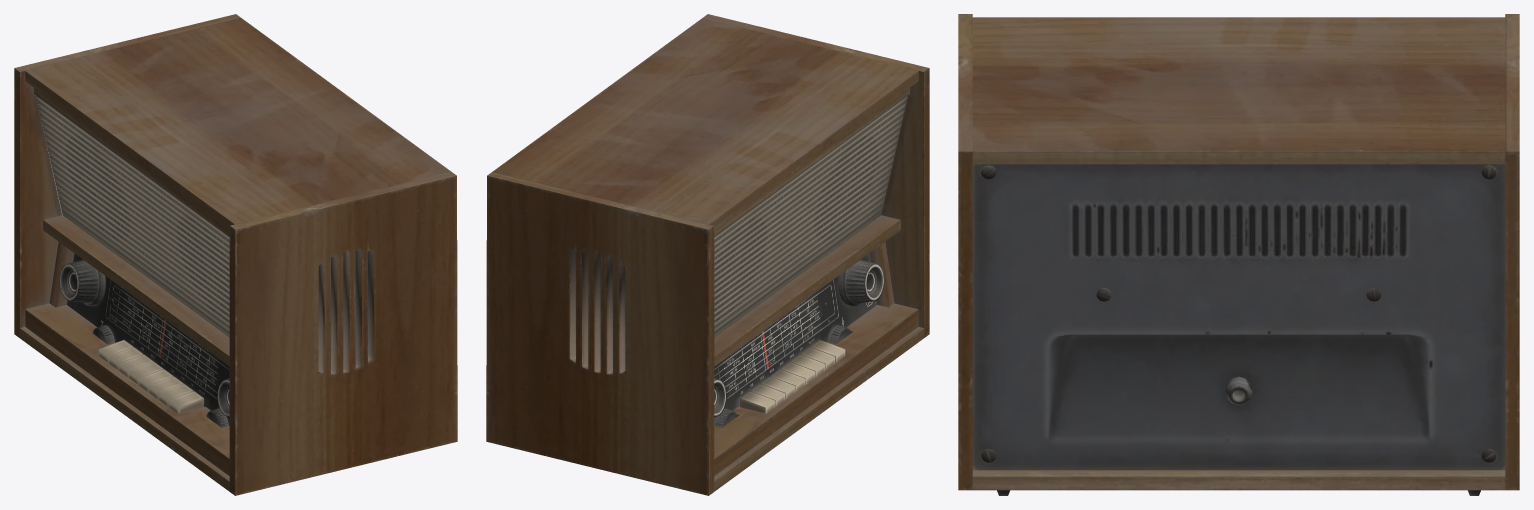
Rendered from radio.glb.
The picture shows the model from 3 angles, left to right: view 1: azimuth 30°, elevation 25°; view 2: azimuth 150°, elevation 25°; view 3: azimuth 270°, elevation 25°; orthographic projection. The views are drawn at different scales.
Parts seen in each view (by area): view 1: models\props\radioset_1.vmdl_c.radioset_1; view 2: models\props\radioset_1.vmdl_c.radioset_1; view 3: models\props\radioset_1.vmdl_c.radioset_1.
Boxes of the visible parts, box(x1,y1,x2,y2) form: models\props\radioset_1.vmdl_c.radioset_1: box(14, 14, 457, 495); models\props\radioset_1.vmdl_c.radioset_1: box(486, 14, 929, 495); models\props\radioset_1.vmdl_c.radioset_1: box(958, 14, 1519, 495).
Size of the model in its own units: 0.2075 by 0.2458 by 0.3569.
Materials: 1 (1 with a texture image).
